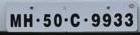character: (10, 13, 21, 27), (22, 13, 33, 27), (70, 13, 80, 27), (91, 12, 100, 27), (102, 12, 111, 27), (113, 12, 122, 26), (124, 12, 133, 26), (53, 13, 62, 26), (43, 13, 51, 26)
